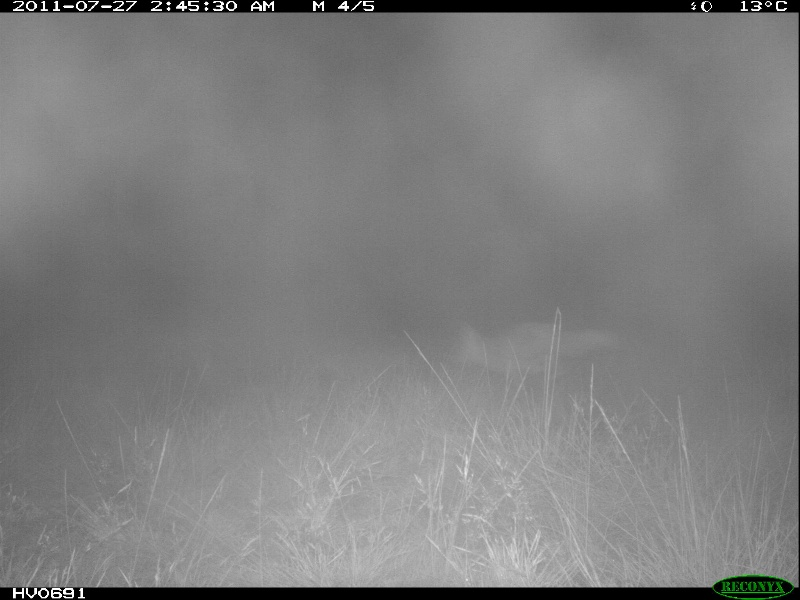fox: (458, 315, 613, 393)
